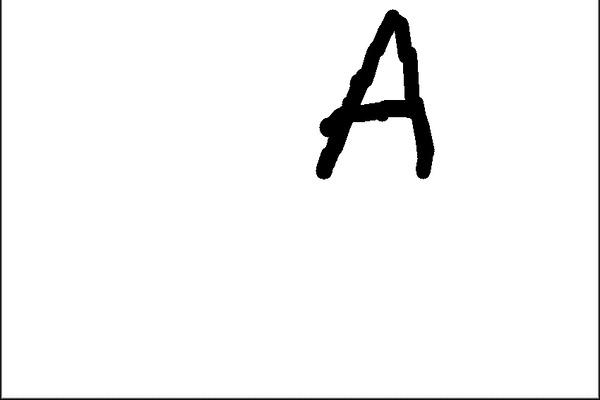A: (308, 4, 446, 186)
